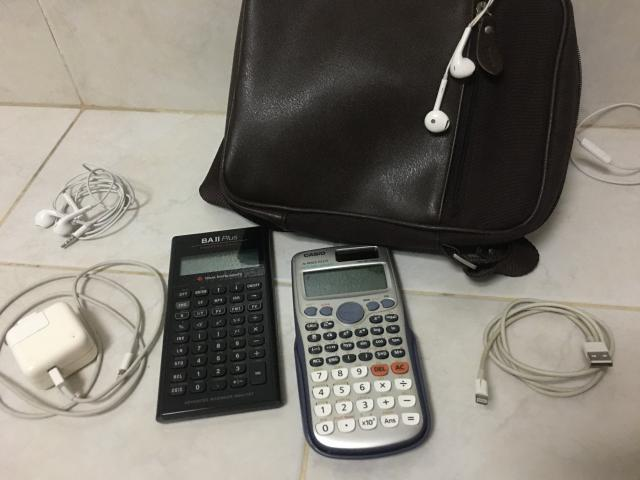wire: (0, 260, 166, 419), (475, 299, 615, 404), (425, 0, 494, 132), (35, 164, 136, 249)
